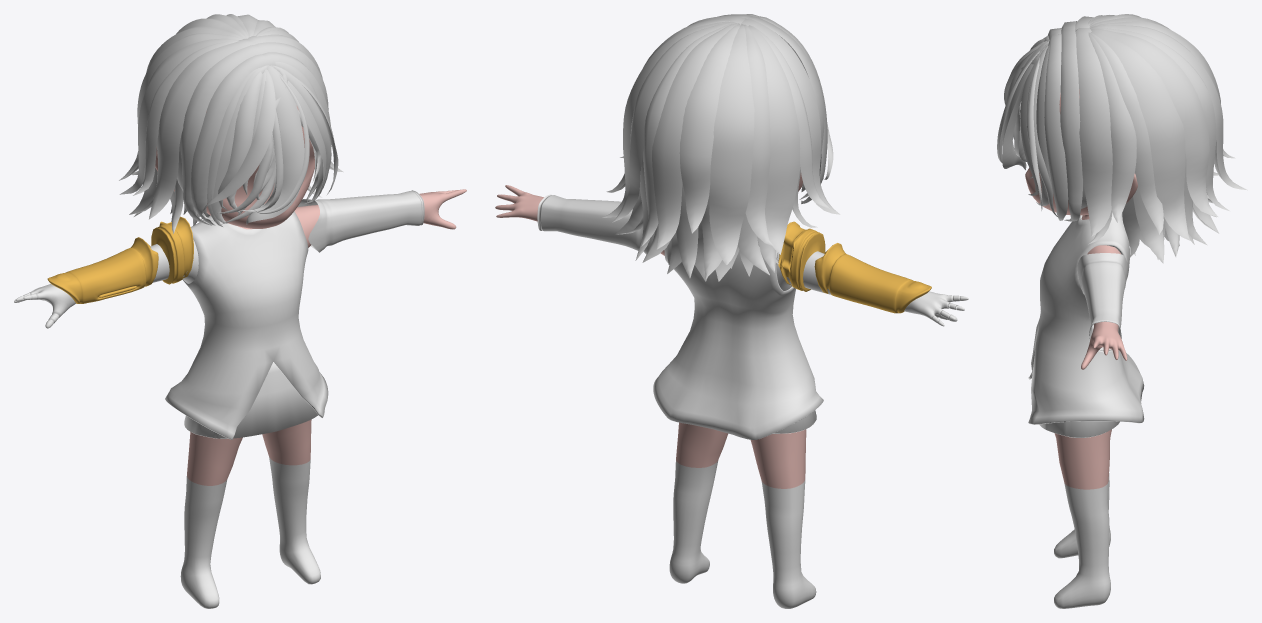
Rendered from Female 2 export.fbx.
3 renders of one model, left to right at view 1: azimuth 30°, elevation 25°; view 2: azimuth 150°, elevation 25°; view 3: azimuth 270°, elevation 25°, orthographic. The views are drawn at different scales.
Visible parts, largest first — view 1: hair, shirt, leg, robot cover, _hand cover, skirt, head, Right arm, left arm; view 2: hair, shirt, leg, robot cover, _hand cover, Right arm, left arm; view 3: hair, shirt, leg, _hand cover, left arm, skirt, head.
Part boxes in pixels (x1,y1,x2,y2): hair: (119, 14, 343, 233); shirt: (165, 211, 328, 439); leg: (180, 419, 320, 608); robot cover: (47, 216, 193, 303); _hand cover: (297, 190, 424, 252); skirt: (184, 362, 317, 438); head: (155, 105, 314, 229); Right arm: (14, 240, 198, 328); left arm: (294, 189, 466, 247); hair: (602, 14, 840, 281); shirt: (653, 246, 823, 439); leg: (669, 422, 816, 608); robot cover: (778, 221, 931, 313); _hand cover: (537, 194, 654, 254); Right arm: (776, 251, 968, 326); left arm: (495, 185, 664, 255); hair: (997, 14, 1247, 263); shirt: (1028, 212, 1144, 424); leg: (1054, 429, 1111, 608); _hand cover: (1077, 253, 1127, 352); left arm: (1081, 245, 1127, 369); skirt: (1039, 421, 1119, 437); head: (1025, 89, 1137, 219).
Bounding box in the file's own units: 45.7 × 53.65 × 21.91.
